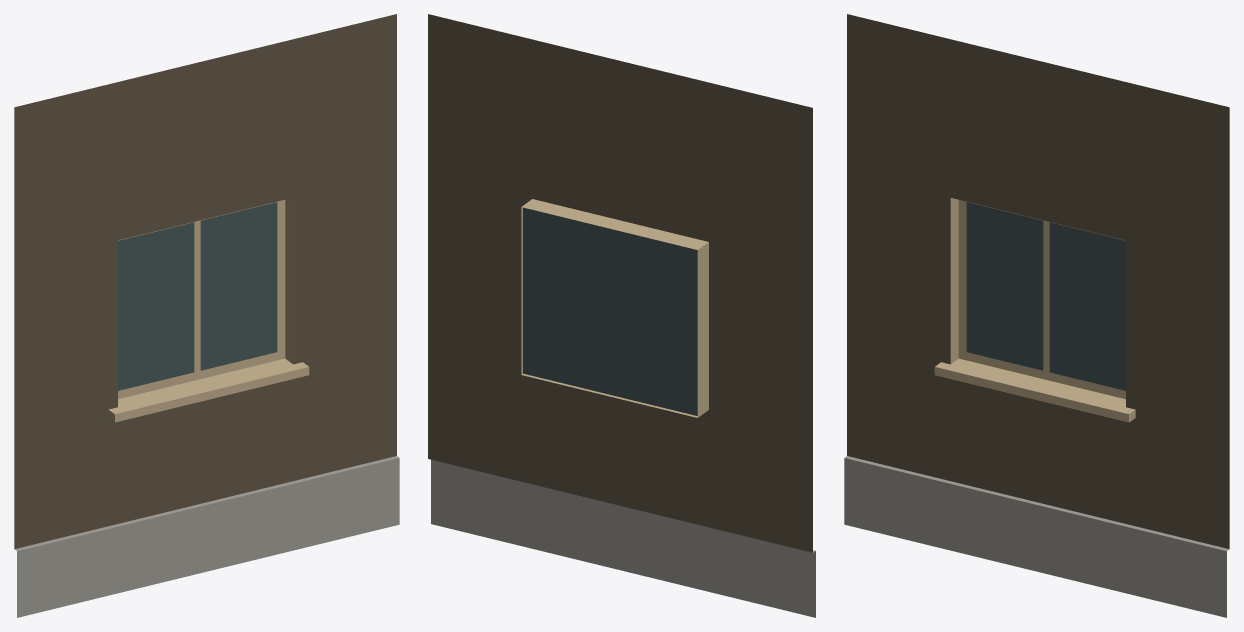
3 renders of one model, left to right at view 1: azimuth 30°, elevation 25°; view 2: azimuth 150°, elevation 25°; view 3: azimuth 330°, elevation 25°, orthographic.
Parts seen in each view (by area): view 1: a2015/400/base-w1; view 2: a2015/400/base-w1; view 3: a2015/400/base-w1.
Part boxes in pixels (x1=…): a2015/400/base-w1: x1=14, y1=14, x2=399, y2=617; a2015/400/base-w1: x1=428, y1=14, x2=815, y2=617; a2015/400/base-w1: x1=844, y1=14, x2=1229, y2=617.
Size of the model in its own units: 2.4 by 3.05 by 0.19.
